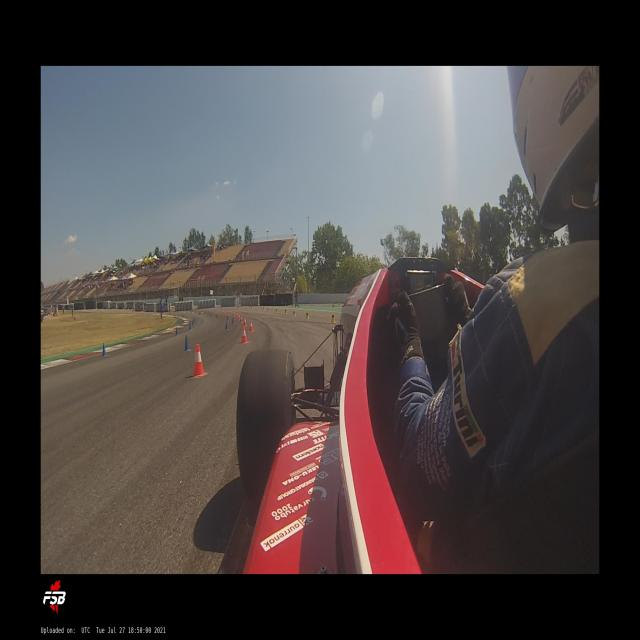orange_cone: (192, 343, 208, 378), (241, 326, 248, 344), (249, 320, 254, 332), (243, 316, 247, 324), (232, 311, 235, 316), (240, 316, 242, 323), (238, 314, 240, 320), (236, 314, 238, 318)
unknown_cone: (184, 336, 190, 351), (102, 343, 107, 358), (225, 322, 228, 330), (176, 328, 178, 336), (189, 323, 191, 330), (227, 316, 229, 323), (232, 318, 234, 324), (192, 320, 194, 326)
yellow_cone: (331, 312, 336, 323), (306, 311, 310, 320), (285, 308, 288, 314), (294, 310, 296, 317), (251, 304, 253, 310), (276, 308, 278, 313), (267, 307, 269, 312), (262, 306, 264, 311), (260, 306, 262, 310), (238, 306, 240, 310)
